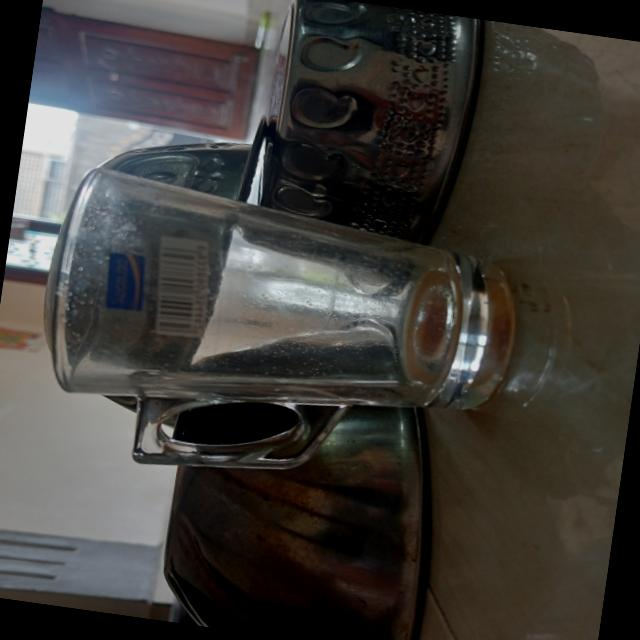glass-VX4N: (25, 162, 531, 508)
